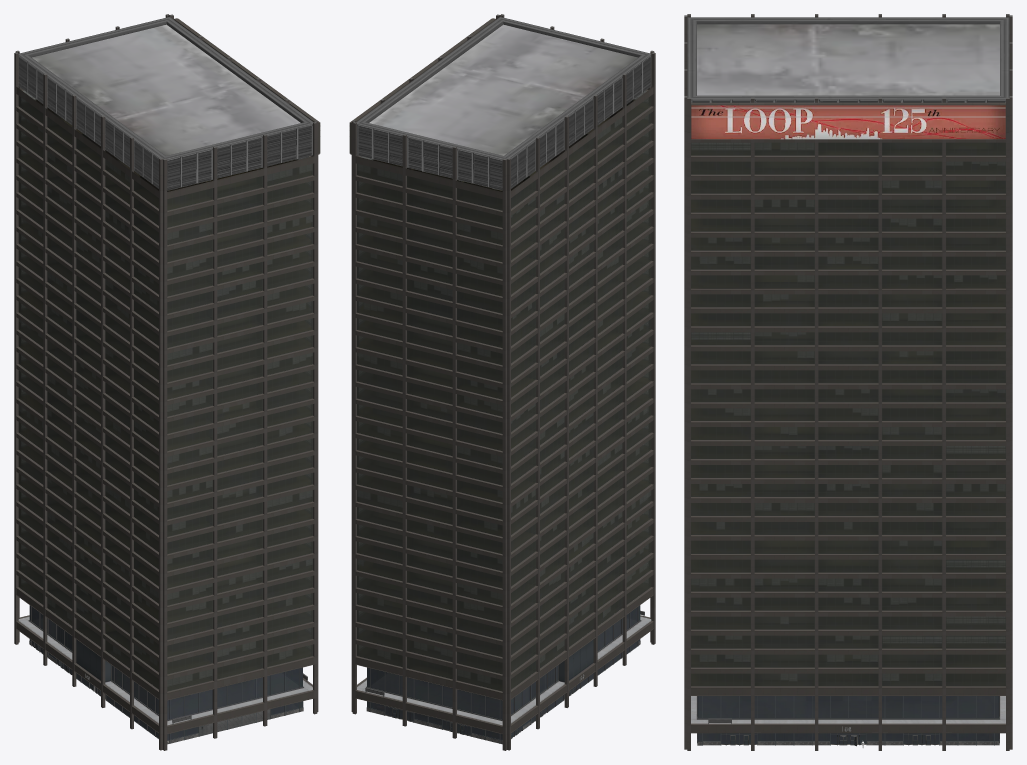
Rendered from atlanta.glb.
3 renders of one model, left to right at view 1: azimuth 30°, elevation 25°; view 2: azimuth 150°, elevation 25°; view 3: azimuth 270°, elevation 25°, orthographic. The views are drawn at different scales.
Visible parts, largest first — view 1: Cube.002_Material_0, Cube.005_Glass_0, Cube.012_Parralax Mapping_0, Cube.001_Windows_0, Cube.006_Emmisive_0, Cube.007_Glass Lobby_0, Cube.003_Blinds_0; view 2: Cube.002_Material_0, Cube.005_Glass_0, Cube.012_Parralax Mapping_0, Cube.001_Windows_0, Cube.006_Emmisive_0, Cube.007_Glass Lobby_0, Cube.003_Blinds_0; view 3: Cube.005_Glass_0, Cube.002_Material_0, Cube.012_Parralax Mapping_0, Cube.001_Windows_0, Cube.004_Billboard_0, Cube.007_Glass Lobby_0, Cube.003_Blinds_0, Cube.006_Emmisive_0.
Boxes of the visible parts, x1,y1,x2,y2 form: Cube.002_Material_0: (14, 14, 320, 750); Cube.005_Glass_0: (18, 90, 312, 690); Cube.012_Parralax Mapping_0: (19, 96, 311, 690); Cube.001_Windows_0: (18, 90, 312, 691); Cube.006_Emmisive_0: (18, 56, 312, 190); Cube.007_Glass Lobby_0: (29, 605, 303, 740); Cube.003_Blinds_0: (19, 114, 311, 685); Cube.002_Material_0: (349, 14, 655, 750); Cube.005_Glass_0: (357, 90, 651, 690); Cube.012_Parralax Mapping_0: (358, 96, 650, 690); Cube.001_Windows_0: (357, 90, 651, 691); Cube.006_Emmisive_0: (357, 56, 651, 190); Cube.007_Glass Lobby_0: (367, 605, 640, 740); Cube.003_Blinds_0: (358, 118, 650, 682); Cube.005_Glass_0: (691, 142, 1005, 685); Cube.002_Material_0: (684, 14, 1012, 750); Cube.012_Parralax Mapping_0: (691, 143, 1005, 685); Cube.001_Windows_0: (691, 143, 1005, 686); Cube.004_Billboard_0: (691, 105, 1005, 139); Cube.007_Glass Lobby_0: (697, 696, 999, 744); Cube.003_Blinds_0: (692, 143, 1004, 680); Cube.006_Emmisive_0: (691, 99, 1005, 102).
Size of the model in its own units: 60.83 by 212 by 96.85.
Materials: 12 (11 with a texture image).
